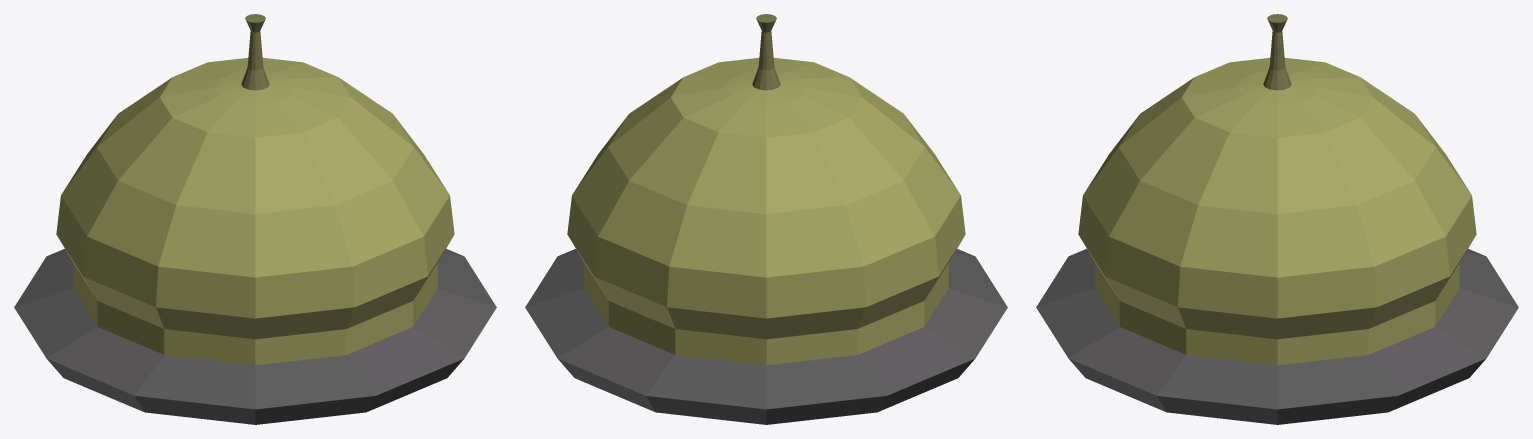
File: звоночек.fbx
3 views of the same model, side by side, from view 1: azimuth 30°, elevation 25°; view 2: azimuth 150°, elevation 25°; view 3: azimuth 270°, elevation 25° (orthographic).
Parts seen in each view (by area): view 1: Circle.036; view 2: Circle.036; view 3: Circle.036.
Part boxes in pixels (box(x1,y1,x2,y2)): Circle.036: box(14, 14, 496, 424); Circle.036: box(525, 14, 1007, 424); Circle.036: box(1036, 14, 1518, 424).
Size of the model in its own units: 10.79 by 7.72 by 10.79.
